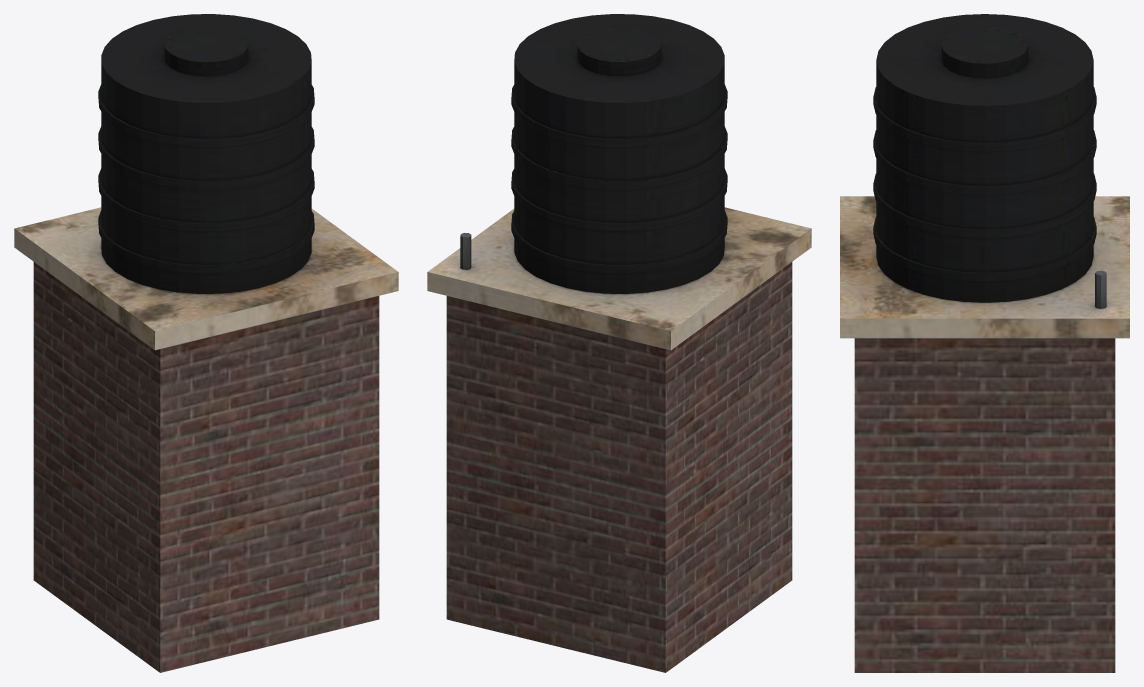
The model's file is watertank.glb.
The picture shows the model from 3 angles, left to right: view 1: azimuth 30°, elevation 25°; view 2: azimuth 150°, elevation 25°; view 3: azimuth 270°, elevation 25°; orthographic projection. The views are drawn at different scales.
Parts seen in each view (by area): view 1: watertank; view 2: watertank; view 3: watertank.
Boxes of the visible parts, x1,y1,x2,y2 form: watertank: (14,14,398,672); watertank: (427,14,811,672); watertank: (840,14,1129,672).
Size of the model in its own units: 2 by 4.36 by 2.
Materials: 1 (1 with a texture image).
